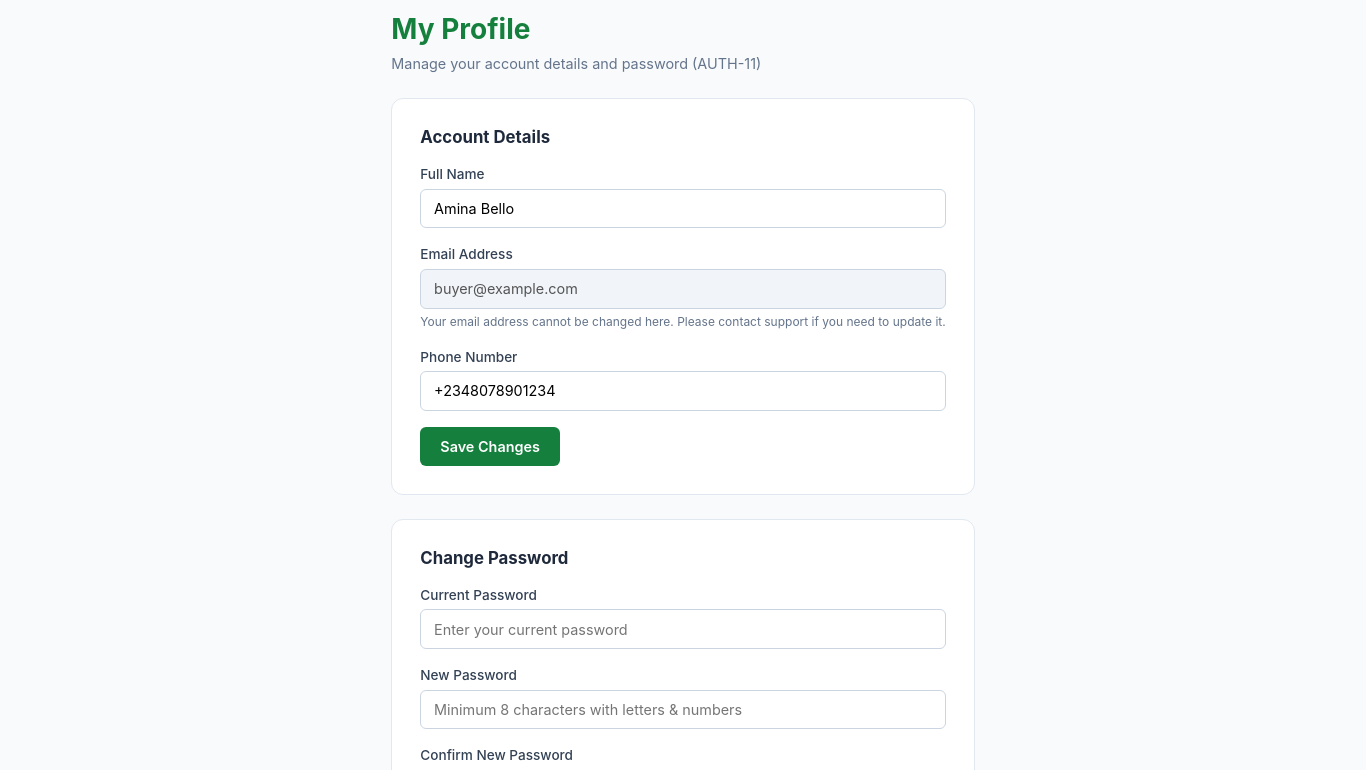
Account Profile page (FE-069 / AUTH-11) › Buyer profile (view & edit name / phone) › saves updated name and phone (AUTH-11)
Replace the text in the field with test id "profile-name-input" with "Amina Bello-Adamu": point(683, 208) x1=420 y1=189 x2=946 y2=228
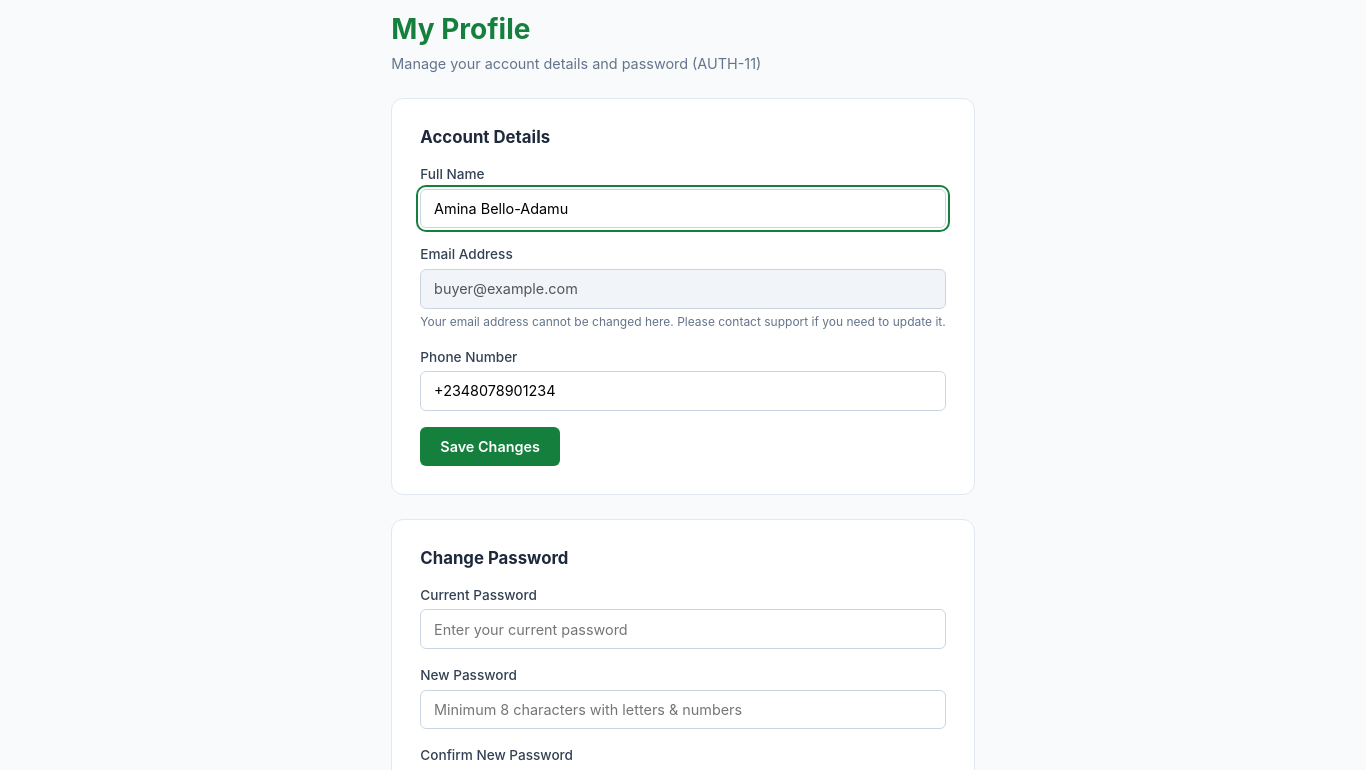
Replace the text in the field with test id "profile-phone-input" with "08099998888": point(683, 391) x1=420 y1=371 x2=946 y2=411
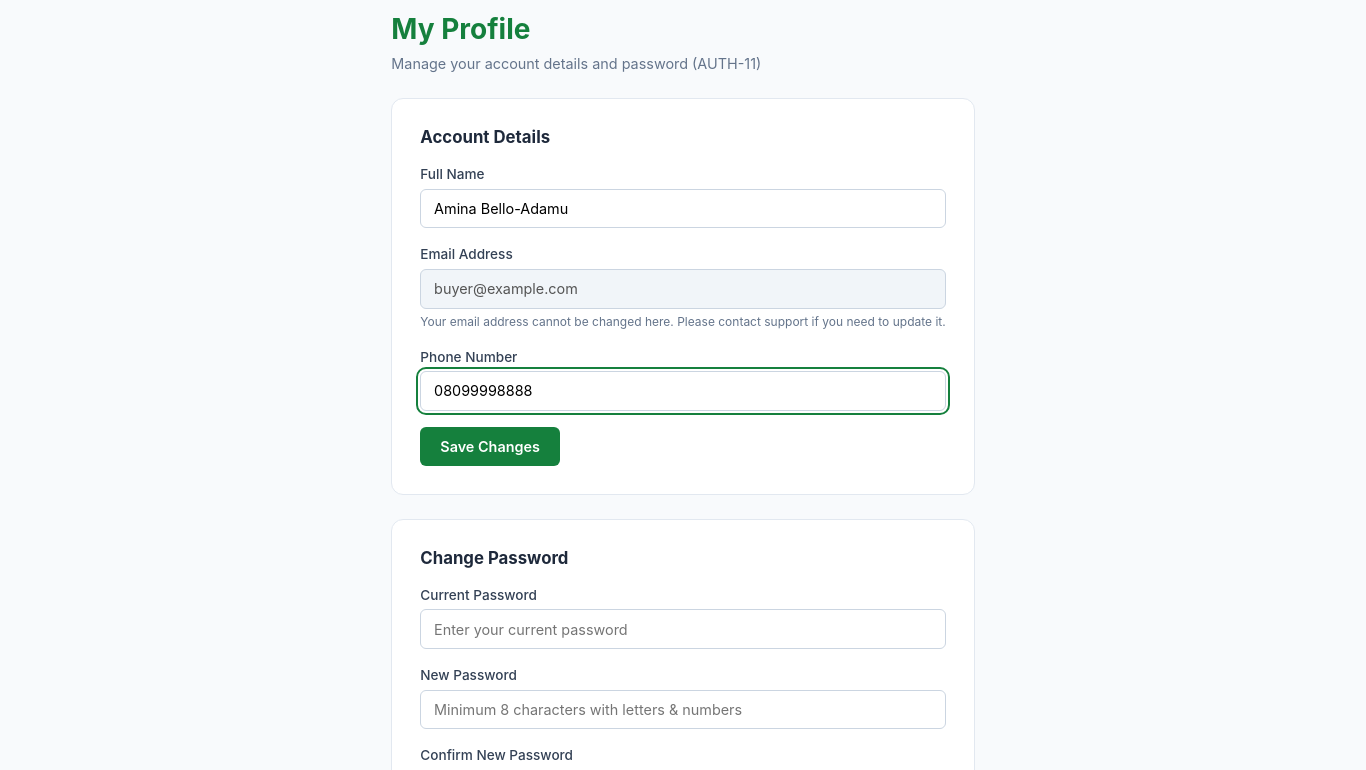
Click the button with test id "profile-save-btn": point(490, 446) x1=420 y1=427 x2=560 y2=466
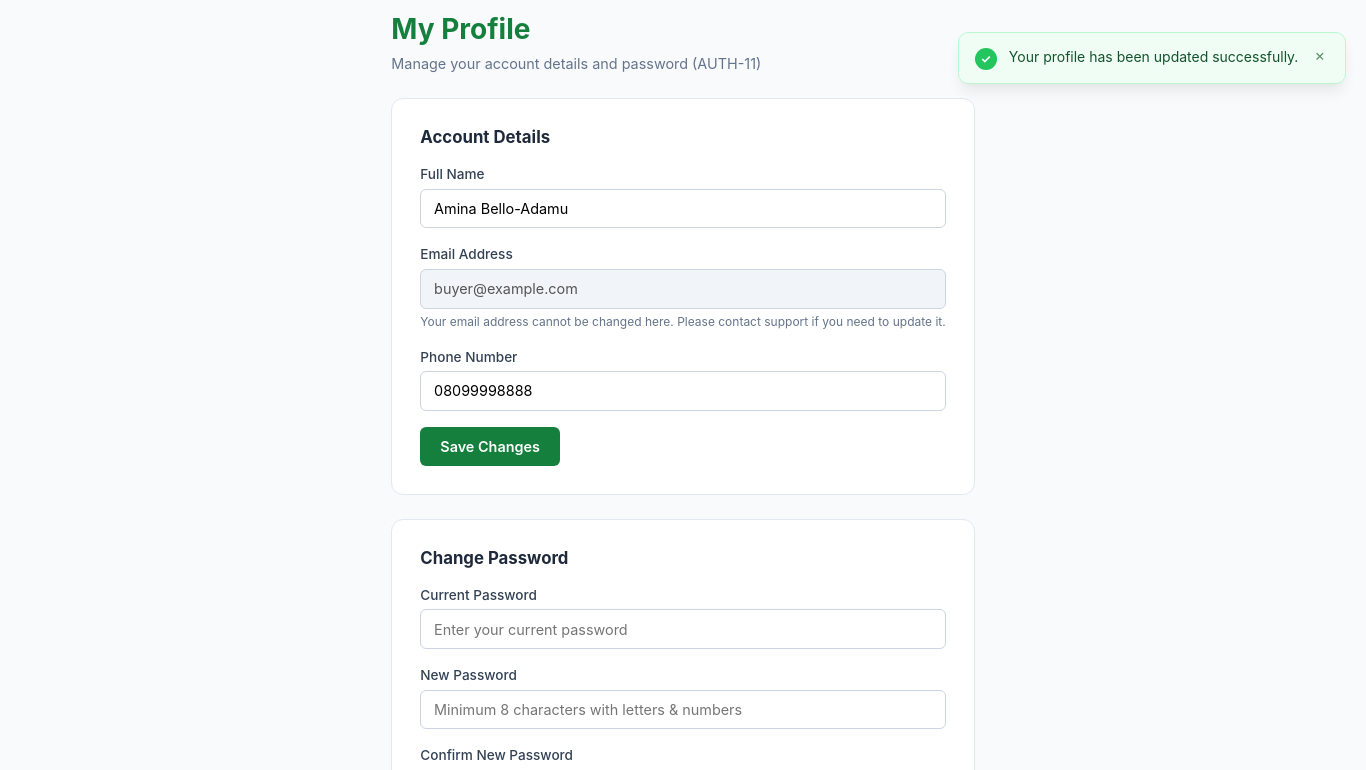
Now the text "Your profile has been updated successfully." is shown, box x1=1009 y1=47 x2=1298 y2=67
